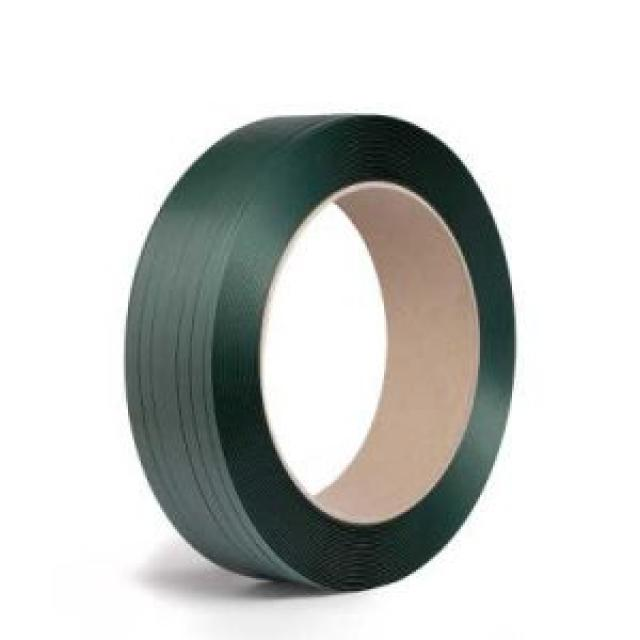-circle-round-: (102, 113, 538, 592)
